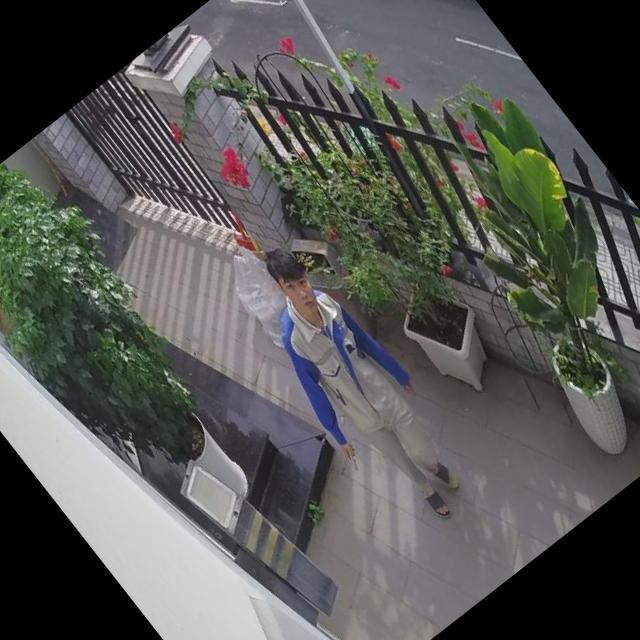person: (215, 228, 494, 546)
